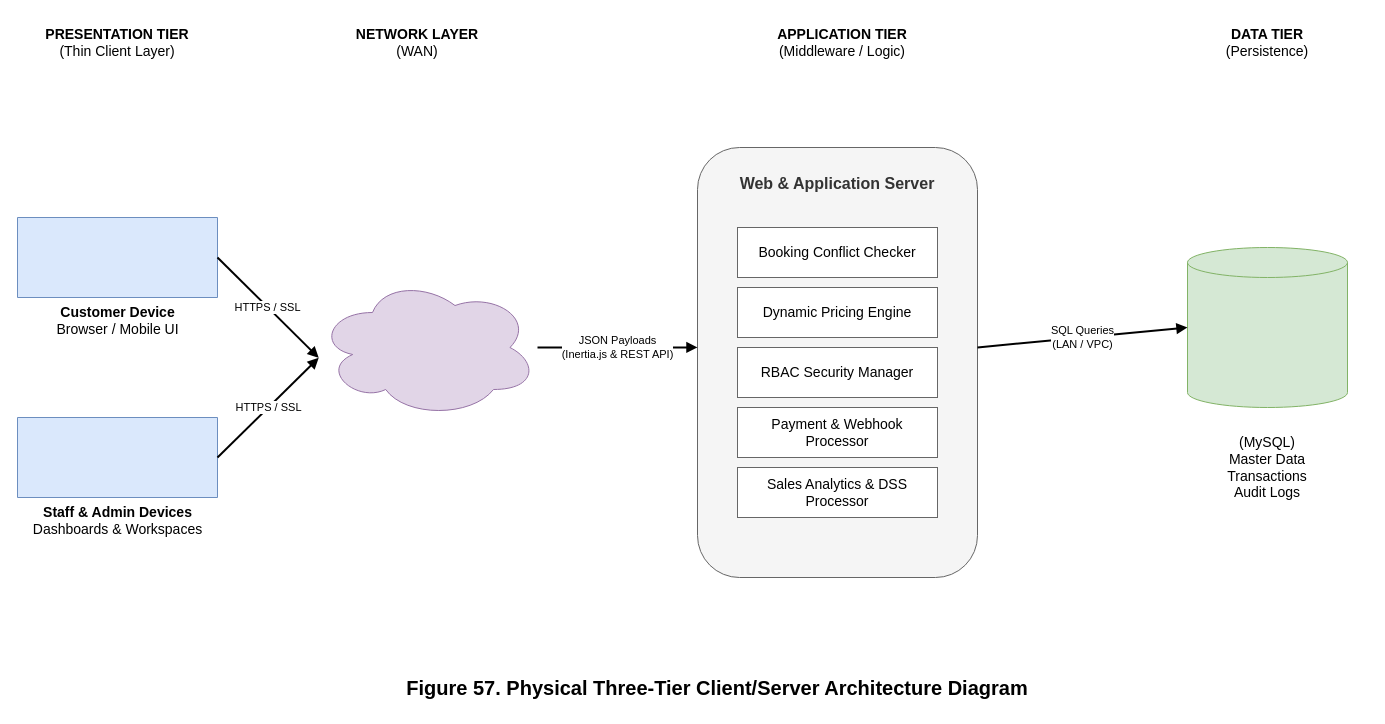
This 1385x724 diagram has some shape labels left out. Here are the shapes that lost their labels. From the top down, the centre of each, then its label:
At pixel 427 347: "Internet (WAN)".
At pixel 1267 327: "Relational Database".
